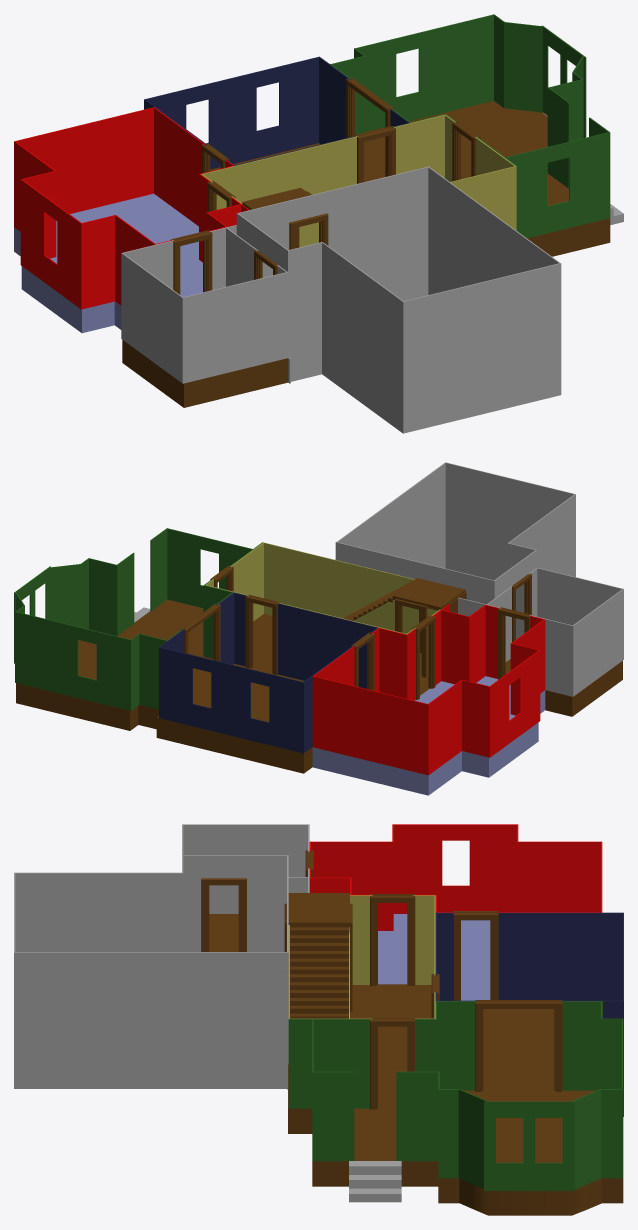
File: house_downstairs_06.fbx
3 renders of one model, top to bottom at view 1: azimuth 30°, elevation 25°; view 2: azimuth 150°, elevation 25°; view 3: azimuth 270°, elevation 25°, orthographic. The views are drawn at different scales.
Visible parts, largest first — view 1: polySurface3983; view 2: polySurface3983; view 3: polySurface3983.
Boxes of the visible parts, x1,y1,x2,y2 form: polySurface3983: [14, 14, 623, 433]; polySurface3983: [14, 462, 623, 795]; polySurface3983: [14, 824, 623, 1215].
Size of the model in its own units: 23.46 by 5.38 by 21.78.
